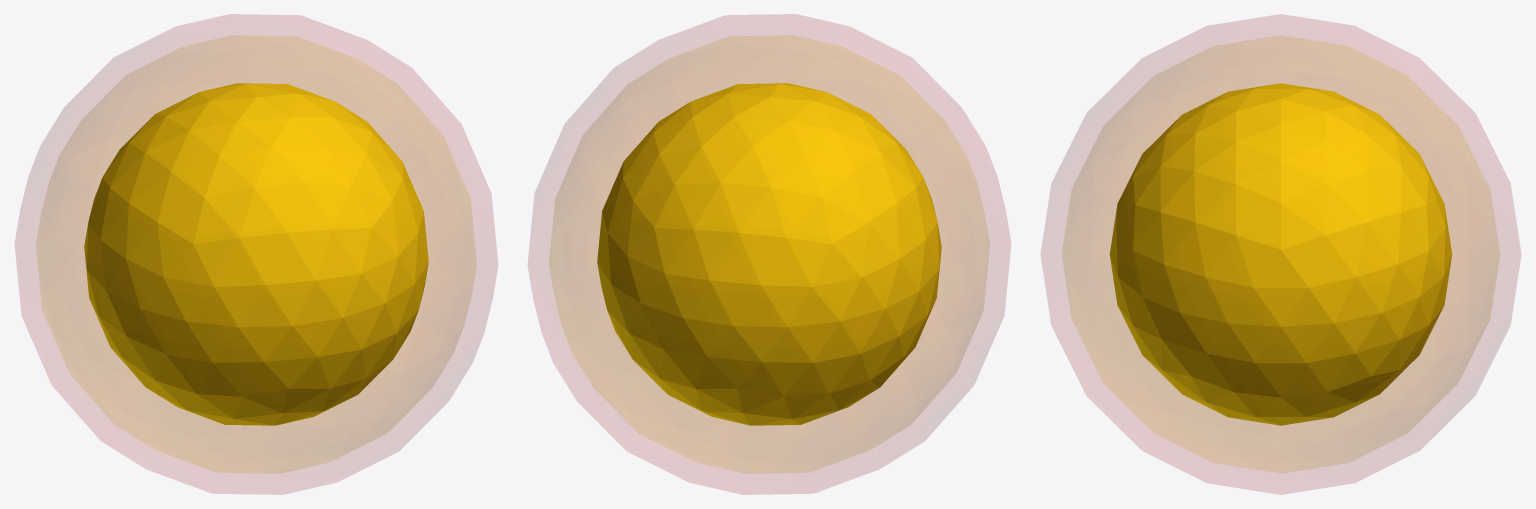
Rendered from NormalSun.FBX.
The picture shows the model from 3 angles, left to right: view 1: azimuth 30°, elevation 25°; view 2: azimuth 150°, elevation 25°; view 3: azimuth 270°, elevation 25°; orthographic projection.
Parts seen in each view (by area): view 1: GeoSphere004, GeoSphere006, GeoSphere005; view 2: GeoSphere004, GeoSphere006, GeoSphere005; view 3: GeoSphere004, GeoSphere006, GeoSphere005.
Part boxes in pixels (box(x1,y1,x2,y2)): GeoSphere004: box(84, 83, 428, 425); GeoSphere006: box(15, 14, 497, 494); GeoSphere005: box(36, 36, 476, 472); GeoSphere004: box(597, 83, 941, 425); GeoSphere006: box(528, 14, 1010, 494); GeoSphere005: box(549, 36, 989, 472); GeoSphere004: box(1109, 83, 1452, 425); GeoSphere006: box(1041, 14, 1520, 494); GeoSphere005: box(1062, 36, 1499, 472).
Bounding box in the file's own units: 417 × 417 × 417.
